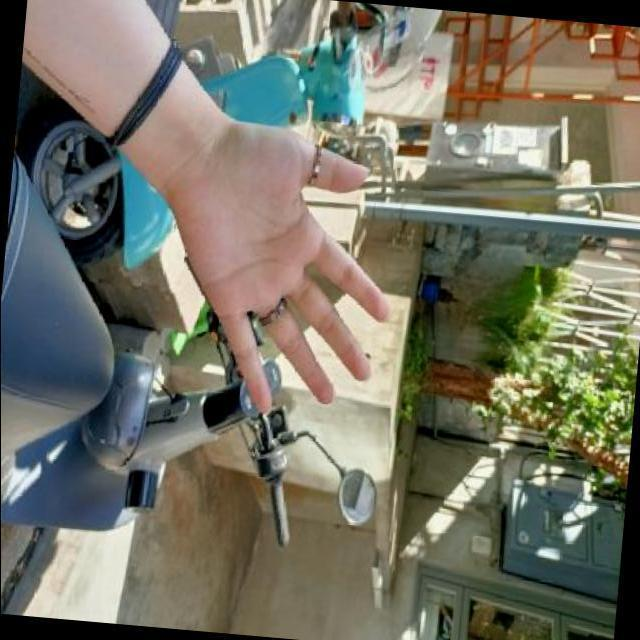bare_hand: (131, 130, 395, 419)
